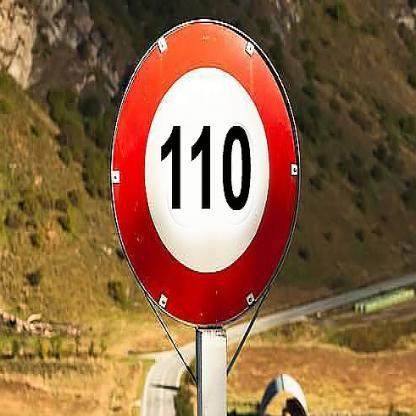Speed Limit 110: (115, 23, 300, 326)
